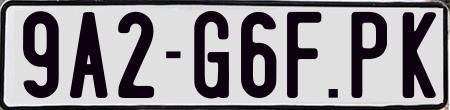2: (117, 10, 157, 98)
6: (239, 10, 277, 99)
9: (22, 11, 58, 98)
A: (70, 10, 111, 102)
F: (284, 10, 322, 99)
G: (192, 10, 232, 102)
K: (400, 11, 430, 102)
P: (350, 9, 387, 100)
